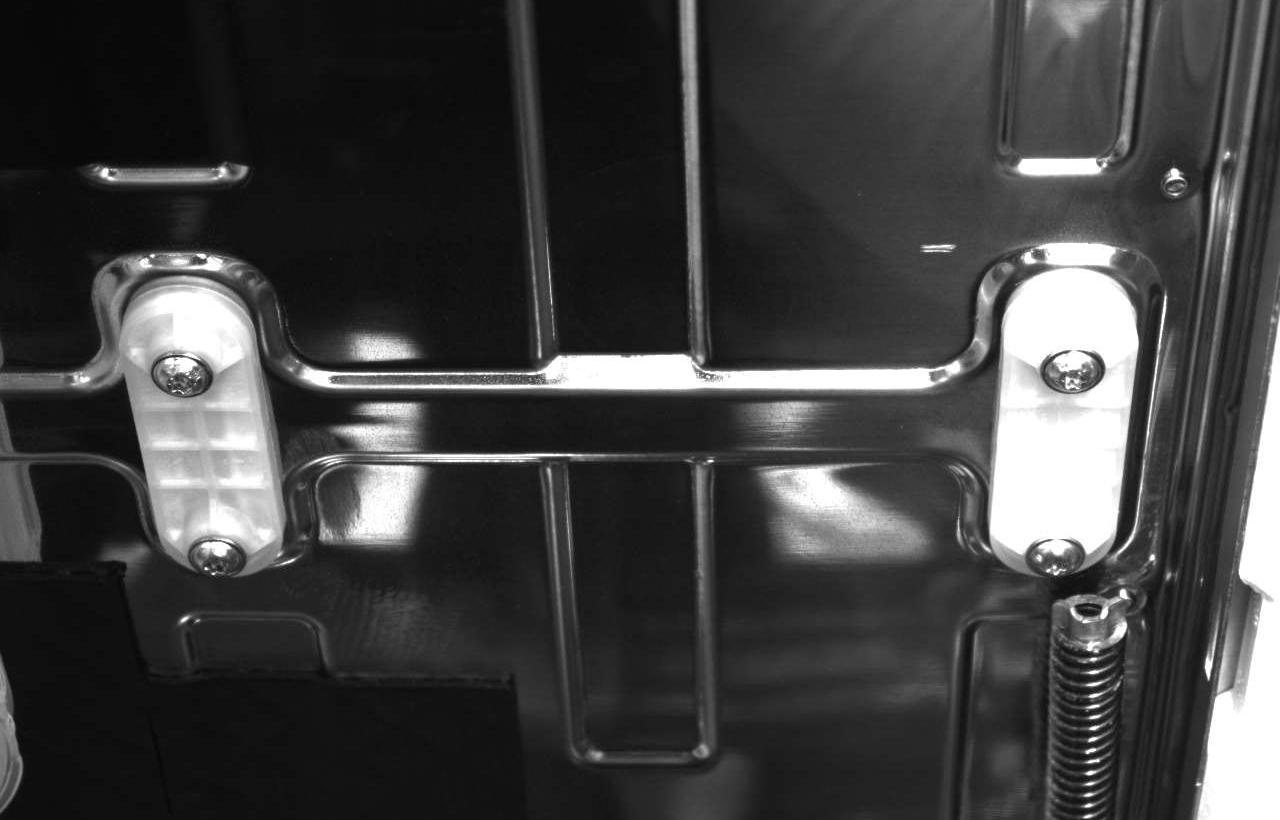vida-ok: (149, 345, 220, 412), (1040, 341, 1107, 408), (1024, 529, 1090, 588), (183, 531, 249, 589)
